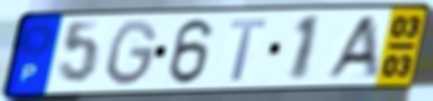1: (286, 13, 324, 84)
5: (58, 19, 103, 91)
6: (163, 16, 217, 87)
A: (321, 13, 381, 82)
G: (104, 17, 161, 89)
T: (227, 17, 270, 84)
